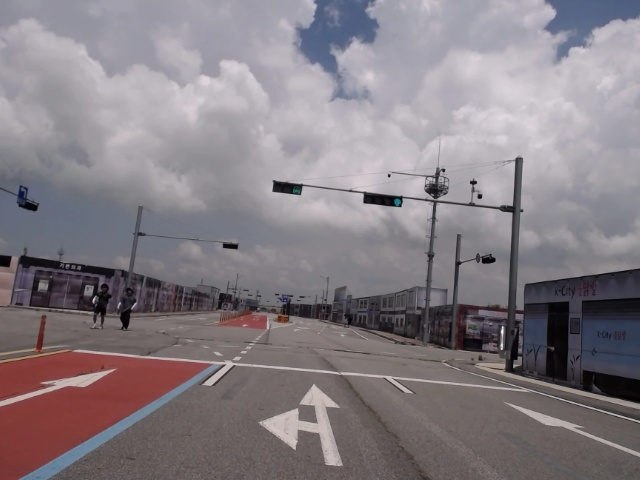straight_green_4: (362, 192, 402, 208)
